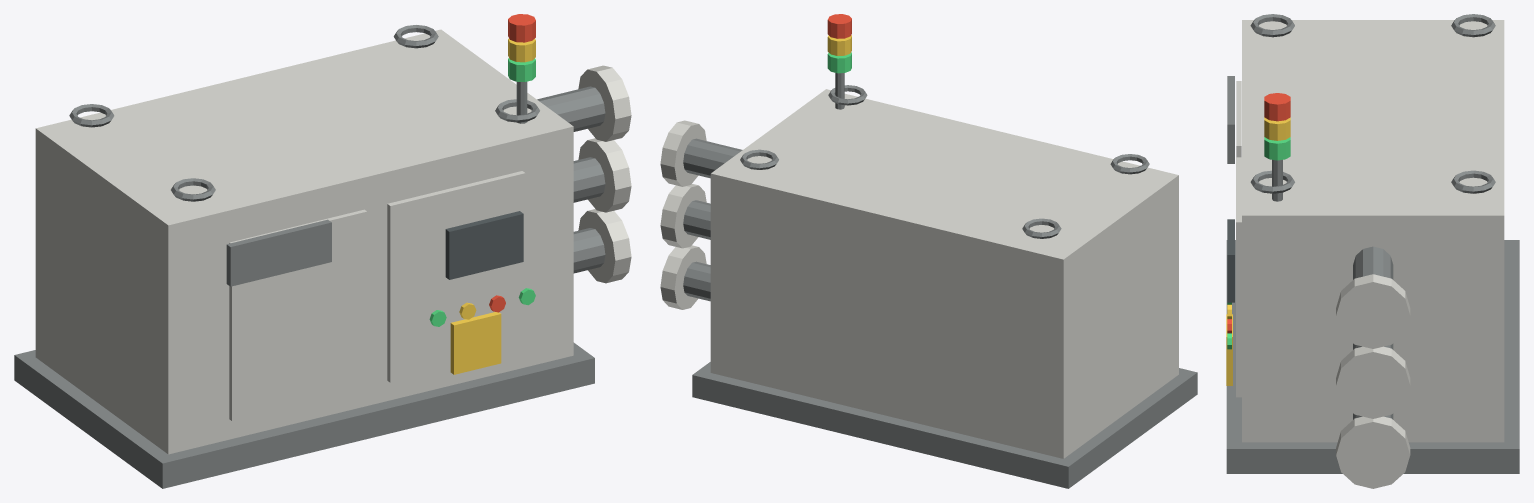
Rendered from electrolyzer box.fbx.
The picture shows the model from 3 angles, left to right: view 1: azimuth 30°, elevation 25°; view 2: azimuth 150°, elevation 25°; view 3: azimuth 270°, elevation 25°; orthographic projection. The views are drawn at different scales.
Visible parts, largest first — view 1: Electrolyzer_container, Electrolyzer_left_door, Electrolyzer_base_frame, Electrolyzer_right_panel, Electrolyzer_vent, Electrolyzer_screen, Electrolyzer_warning_plate, Electrolyzer_O2_out_flange, Electrolyzer_H2_out_flange, Electrolyzer_Water_in_flange, Electrolyzer_O2_out_pipe, Electrolyzer_H2_out_pipe (+5 smaller); view 2: Electrolyzer_container, Electrolyzer_base_frame, Electrolyzer_O2_out_flange, Electrolyzer_H2_out_flange, Electrolyzer_Water_in_flange, Electrolyzer_O2_out_pipe, Electrolyzer_Water_in_pipe, Electrolyzer_H2_out_pipe; view 3: Electrolyzer_container, Electrolyzer_base_frame, Electrolyzer_O2_out_flange, Electrolyzer_H2_out_flange, Electrolyzer_Water_in_flange, Electrolyzer_right_panel, Electrolyzer_O2_out_pipe, Electrolyzer_stack_light_red, Electrolyzer_vent, Electrolyzer_screen, Electrolyzer_lifting_eye_-1.2_0.65, Electrolyzer_lifting_eye_1.2_0.65 (+7 smaller).
Part boxes in pixels (x1=…): Electrolyzer_container: x1=35, y1=29, x2=573, y2=454; Electrolyzer_left_door: x1=229, y1=209, x2=367, y2=421; Electrolyzer_base_frame: x1=14, y1=342, x2=594, y2=488; Electrolyzer_right_panel: x1=387, y1=171, x2=525, y2=382; Electrolyzer_vent: x1=226, y1=219, x2=331, y2=286; Electrolyzer_screen: x1=445, y1=211, x2=523, y2=279; Electrolyzer_warning_plate: x1=450, y1=312, x2=501, y2=374; Electrolyzer_O2_out_flange: x1=578, y1=65, x2=631, y2=141; Electrolyzer_H2_out_flange: x1=578, y1=138, x2=631, y2=212; Electrolyzer_Water_in_flange: x1=578, y1=209, x2=631, y2=283; Electrolyzer_O2_out_pipe: x1=537, y1=86, x2=605, y2=131; Electrolyzer_H2_out_pipe: x1=573, y1=157, x2=605, y2=202; Electrolyzer_container: x1=710, y1=89, x2=1178, y2=458; Electrolyzer_base_frame: x1=692, y1=362, x2=1197, y2=488; Electrolyzer_O2_out_flange: x1=660, y1=120, x2=706, y2=186; Electrolyzer_H2_out_flange: x1=660, y1=184, x2=706, y2=248; Electrolyzer_Water_in_flange: x1=660, y1=245, x2=706, y2=309; Electrolyzer_O2_out_pipe: x1=683, y1=138, x2=742, y2=178; Electrolyzer_Water_in_pipe: x1=683, y1=261, x2=710, y2=301; Electrolyzer_H2_out_pipe: x1=683, y1=200, x2=710, y2=239; Electrolyzer_container: x1=1242, y1=20, x2=1504, y2=442; Electrolyzer_base_frame: x1=1226, y1=240, x2=1519, y2=473; Electrolyzer_O2_out_flange: x1=1336, y1=274, x2=1410, y2=348; Electrolyzer_H2_out_flange: x1=1336, y1=346, x2=1410, y2=418; Electrolyzer_Water_in_flange: x1=1336, y1=416, x2=1410, y2=488; Electrolyzer_right_panel: x1=1236, y1=157, x2=1241, y2=397; Electrolyzer_O2_out_pipe: x1=1353, y1=246, x2=1393, y2=279; Electrolyzer_stack_light_red: x1=1264, y1=93, x2=1290, y2=121; Electrolyzer_vent: x1=1227, y1=76, x2=1234, y2=163; Electrolyzer_screen: x1=1227, y1=219, x2=1234, y2=302; Electrolyzer_lifting_eye_-1.2_0.65: x1=1451, y1=14, x2=1495, y2=37; Electrolyzer_lifting_eye_1.2_0.65: x1=1451, y1=170, x2=1495, y2=193.
Size of the model in its own units: 388 by 252 by 190.
